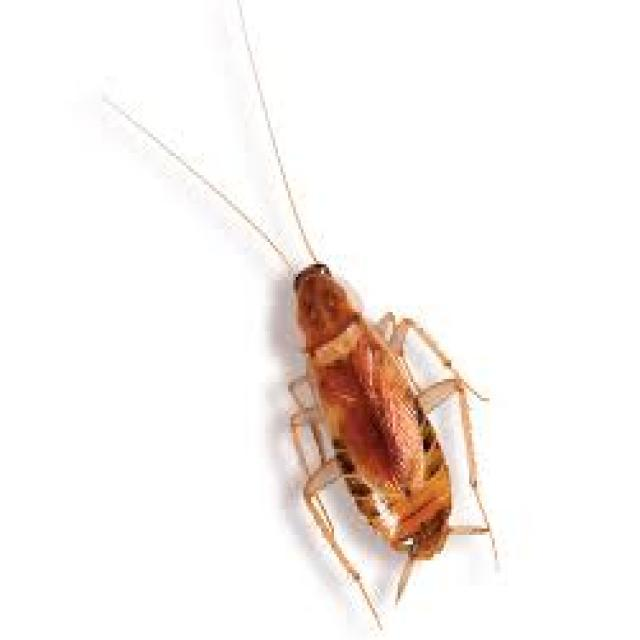Cockroach: (220, 138, 508, 636)
